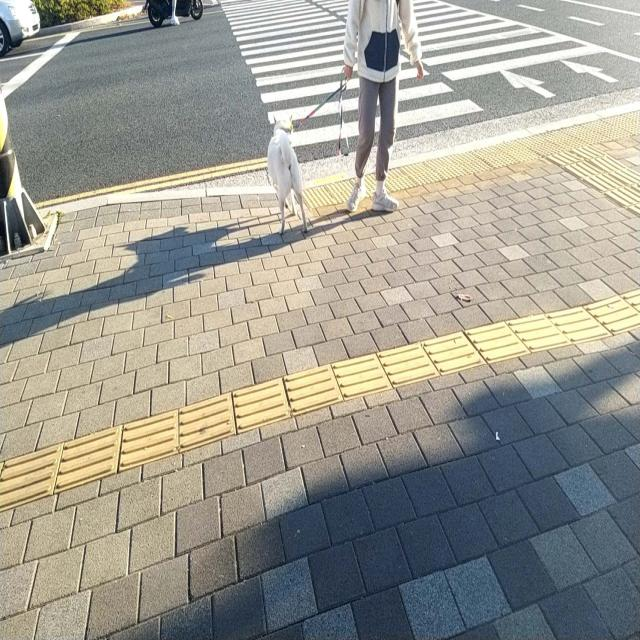Leashed_Dog: (267, 63, 371, 236)
